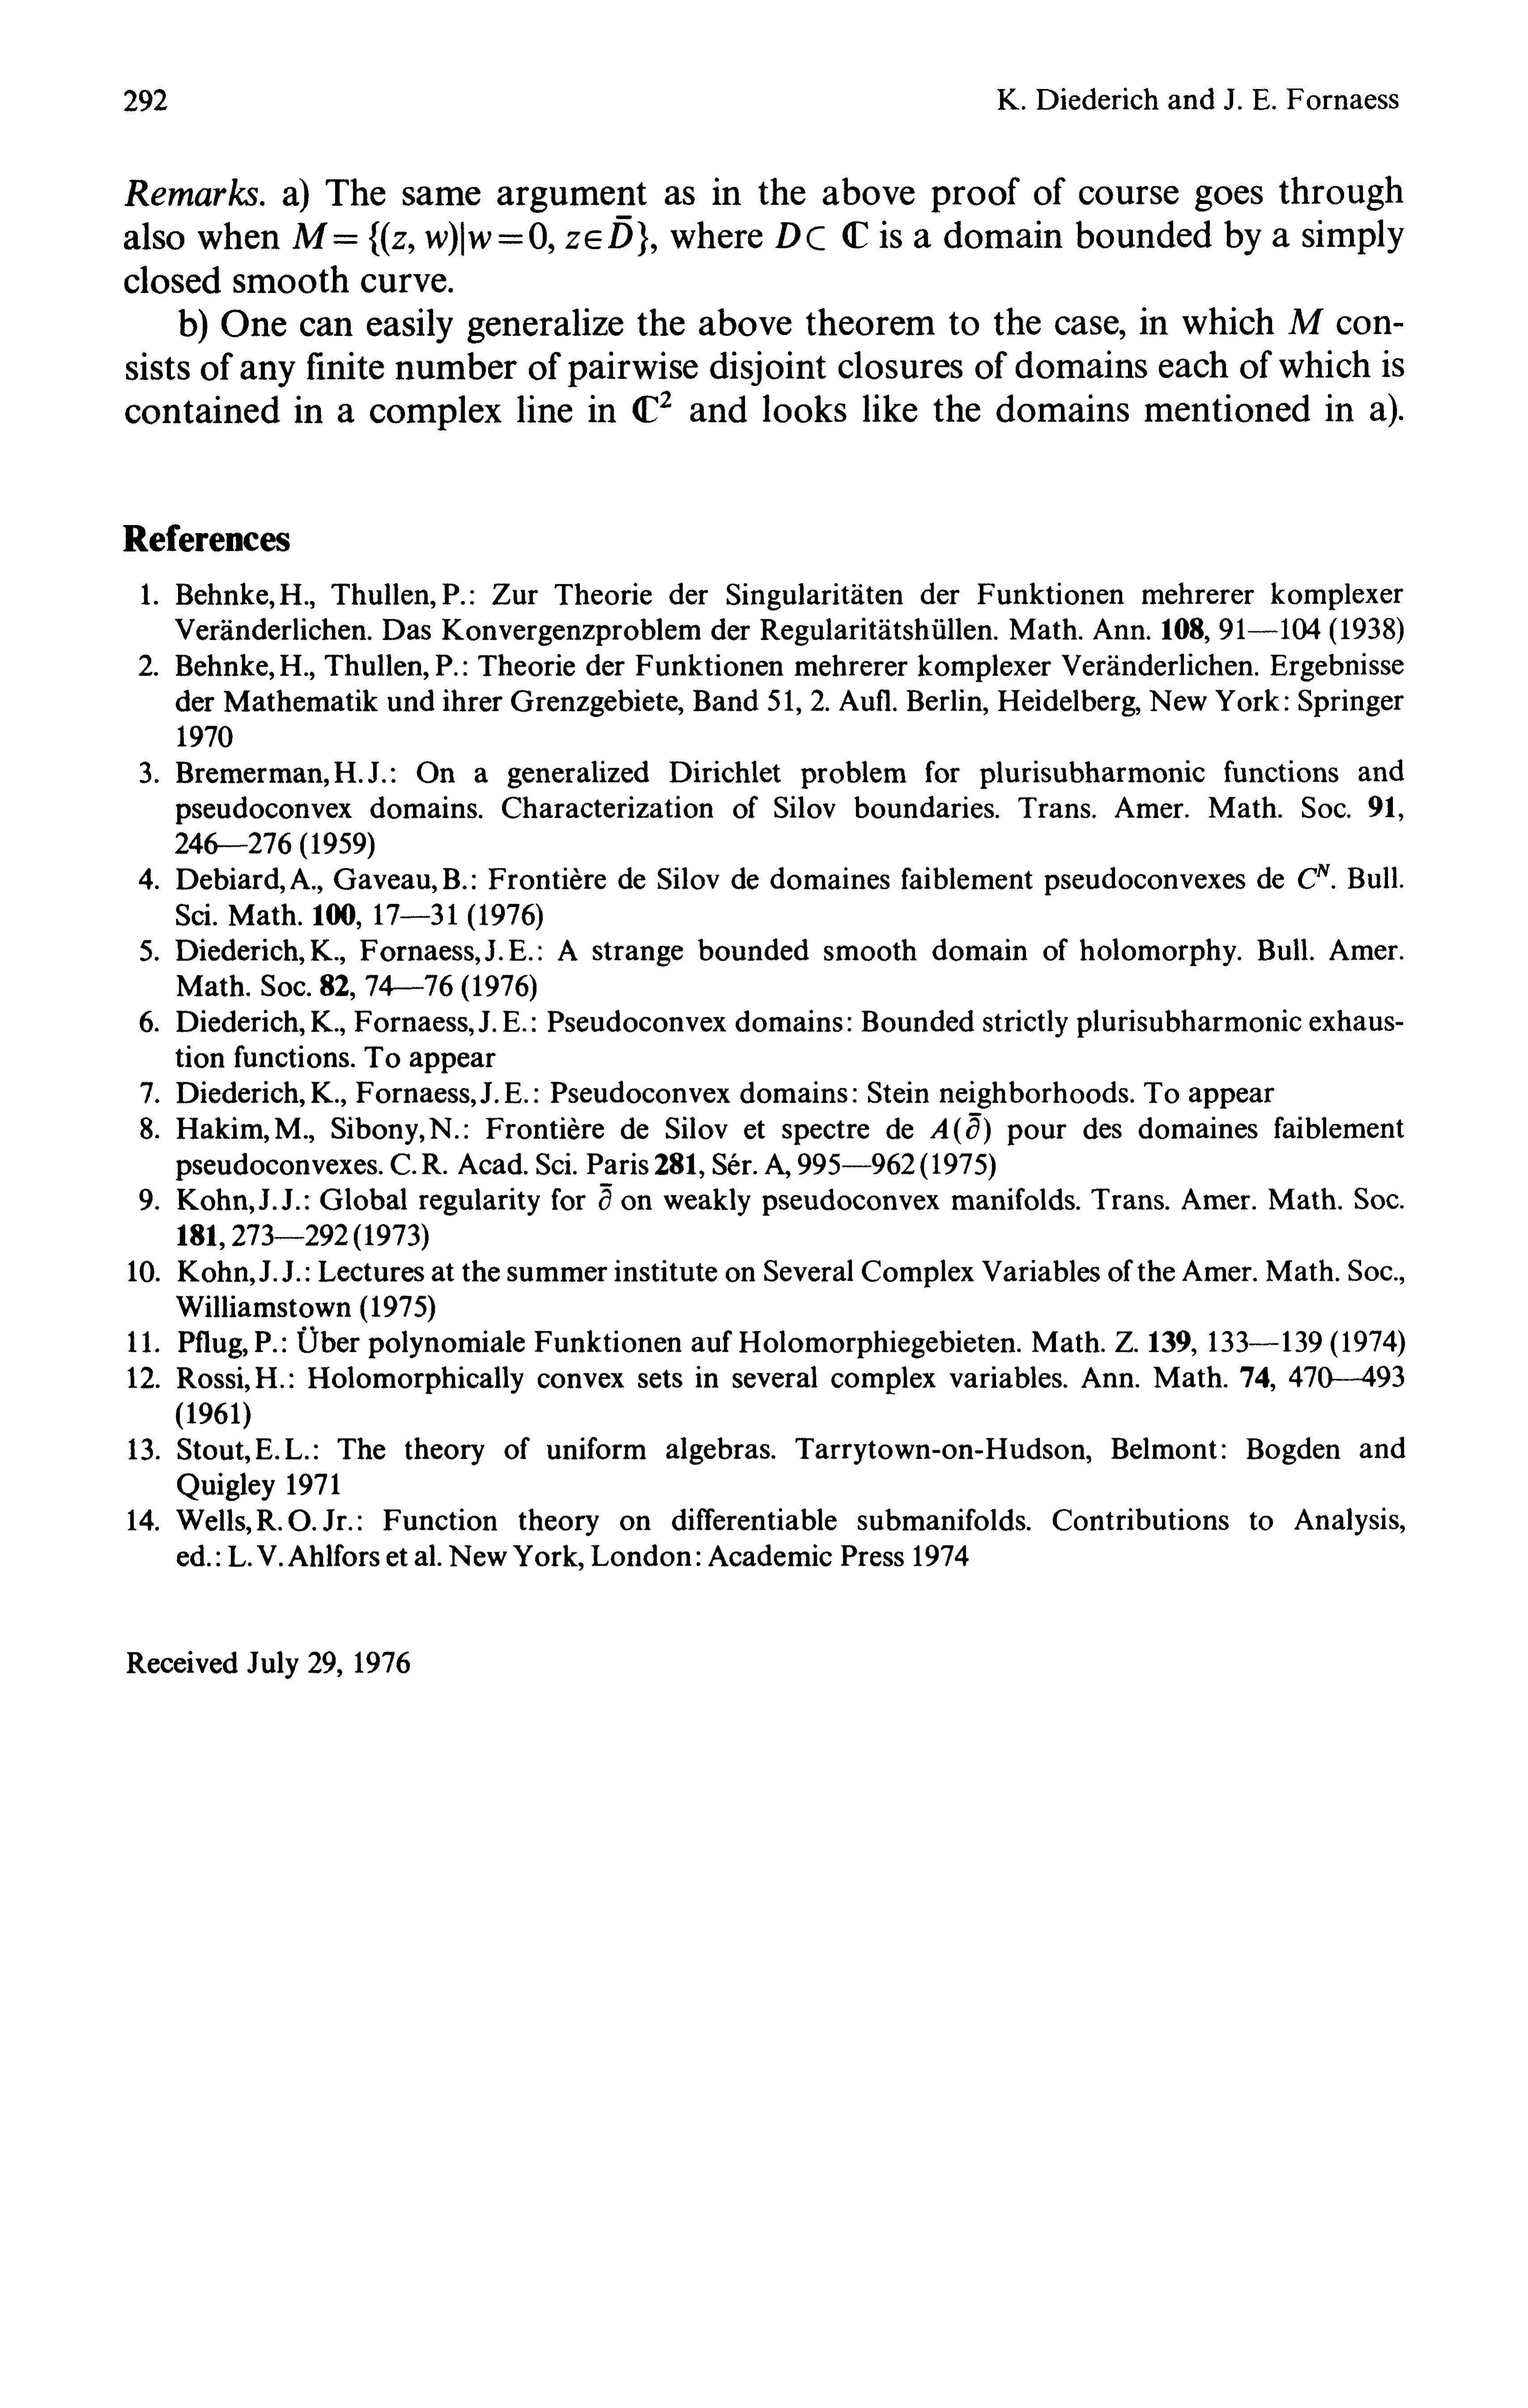maths: (293, 216, 648, 256), (776, 221, 868, 249), (931, 1113, 991, 1144), (632, 391, 671, 423), (1287, 309, 1323, 333), (1298, 864, 1330, 888), (599, 1183, 611, 1209)
